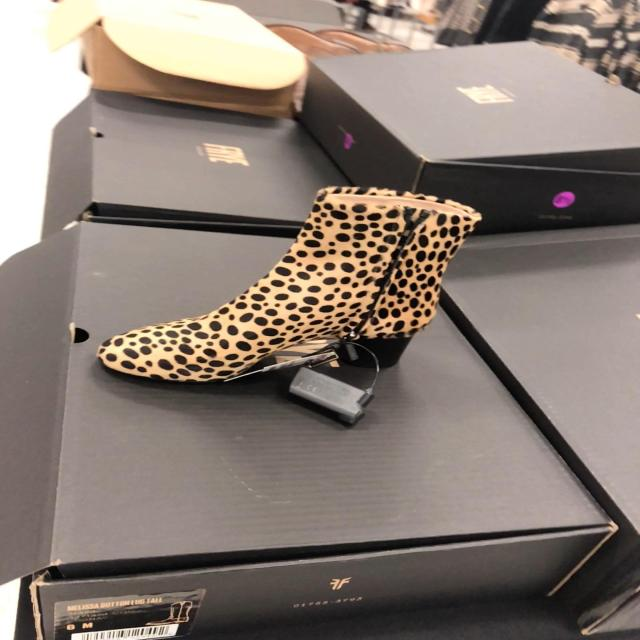shoe: (99, 246, 449, 380)
